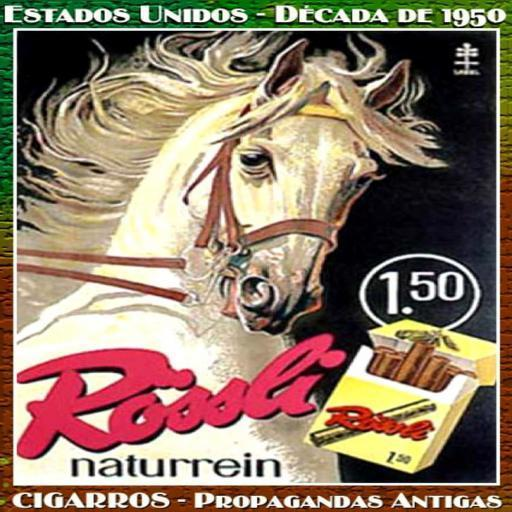horse: (16, 31, 450, 484)
